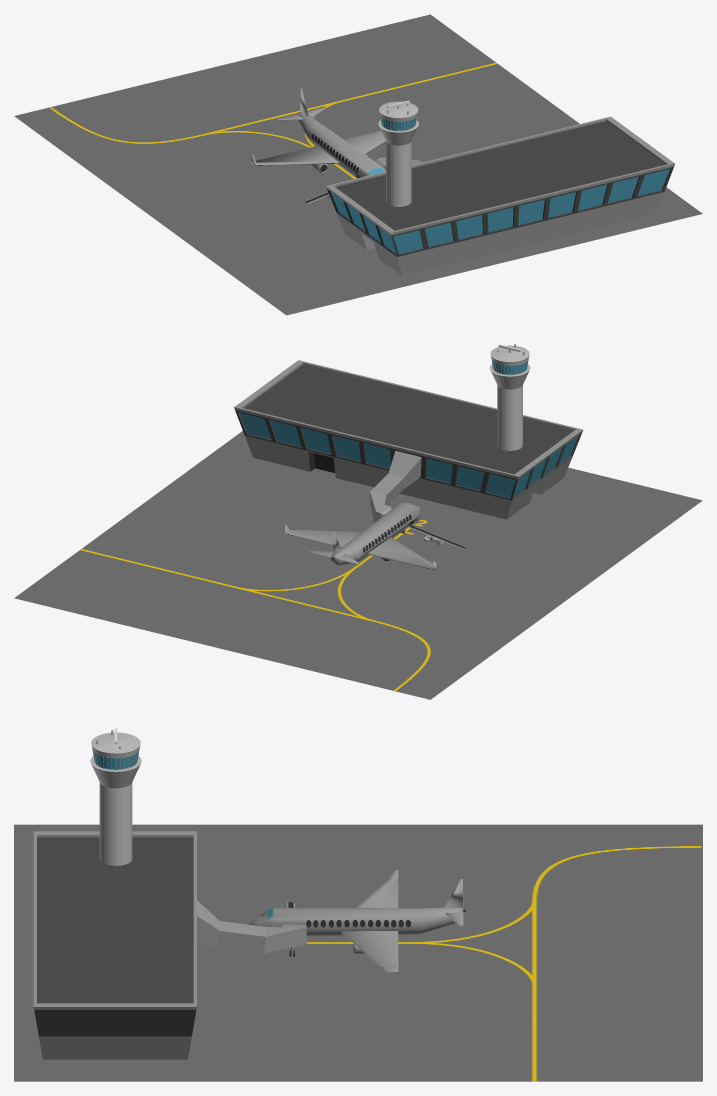
Rendered from scene.ff4dff5e.glb.
3 views of the same model, one above another, from view 1: azimuth 30°, elevation 25°; view 2: azimuth 150°, elevation 25°; view 3: azimuth 270°, elevation 25° (orthographic). The views are drawn at different scales.
Parts seen in each view (by area): view 1: Plane, AirportTerminal, AirportTerminal.002, AirportControlTower; view 2: Plane, AirportTerminal, AirportTerminal.002, AirportControlTower; view 3: Plane, AirportTerminal, AirportTerminal.002, AirportControlTower.
Boxes of the visible parts, left/top/right/bottom form: Plane: left=14, top=14, right=702, bottom=315; AirportTerminal: left=326, top=116, right=674, bottom=275; AirportTerminal.002: left=251, top=88, right=385, bottom=178; AirportControlTower: left=378, top=101, right=418, bottom=206; Plane: left=14, top=431, right=702, bottom=699; AirportTerminal: left=234, top=360, right=582, bottom=522; AirportTerminal.002: left=285, top=502, right=438, bottom=570; AirportControlTower: left=489, top=344, right=530, bottom=450; Plane: left=14, top=824, right=702, bottom=1081; AirportTerminal: left=33, top=831, right=306, bottom=1059; AirportTerminal.002: left=248, top=870, right=465, bottom=972; AirportControlTower: left=90, top=730, right=141, bottom=865.
Size of what is drawn, in the model's own units: 8.39 by 2.85 by 9.51.
Materials: 13 (1 with a texture image).
